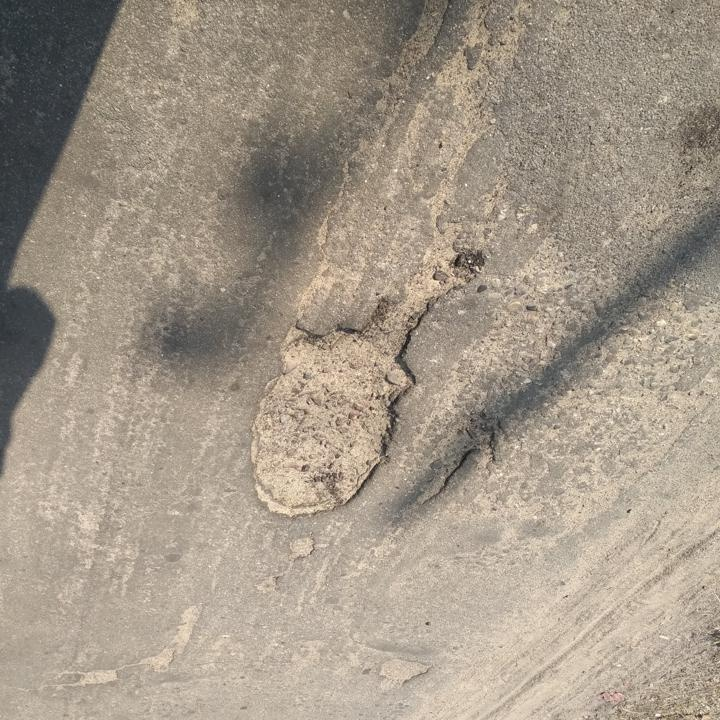pothole: (242, 253, 483, 523), (412, 413, 503, 508), (135, 600, 206, 673), (373, 654, 435, 694), (57, 667, 120, 690), (286, 535, 320, 561)
